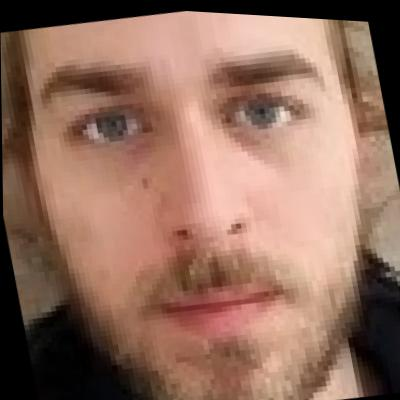netural: (17, 1, 384, 400)
